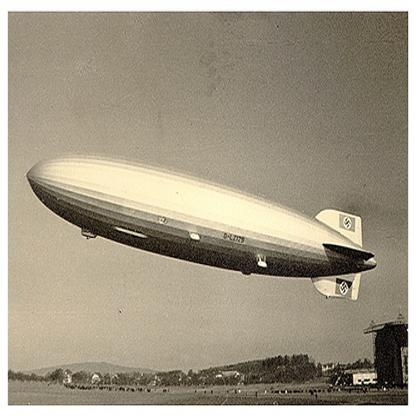Airship: (24, 154, 379, 305)
